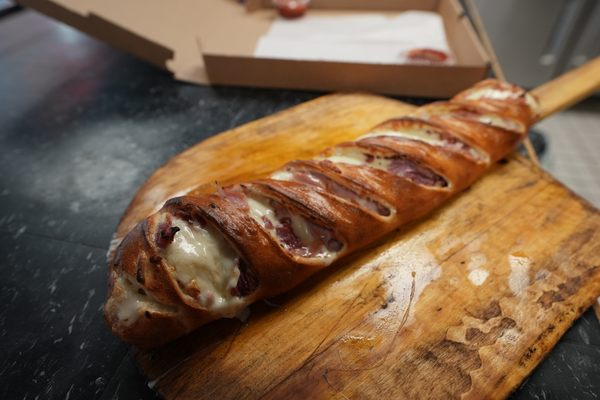soup: (112, 77, 546, 342)
